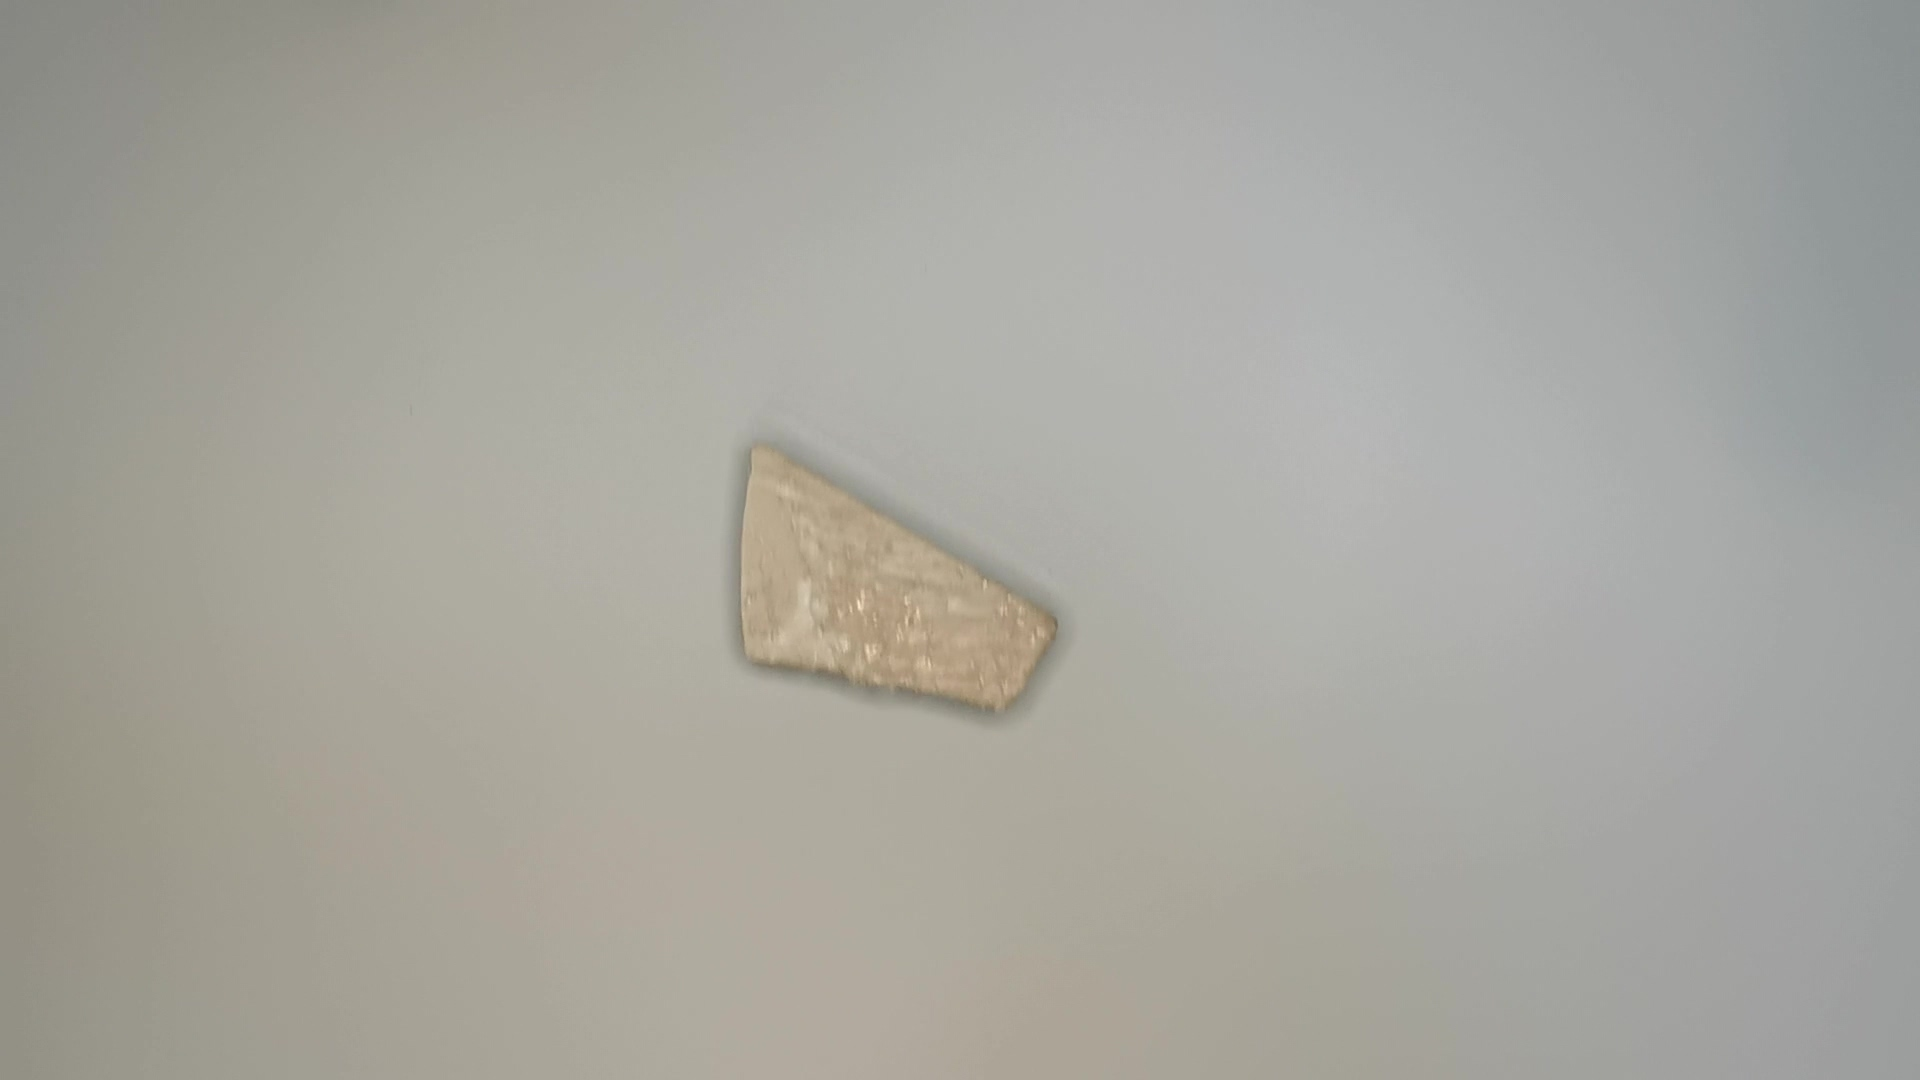ceramic: (735, 434, 1069, 711)
